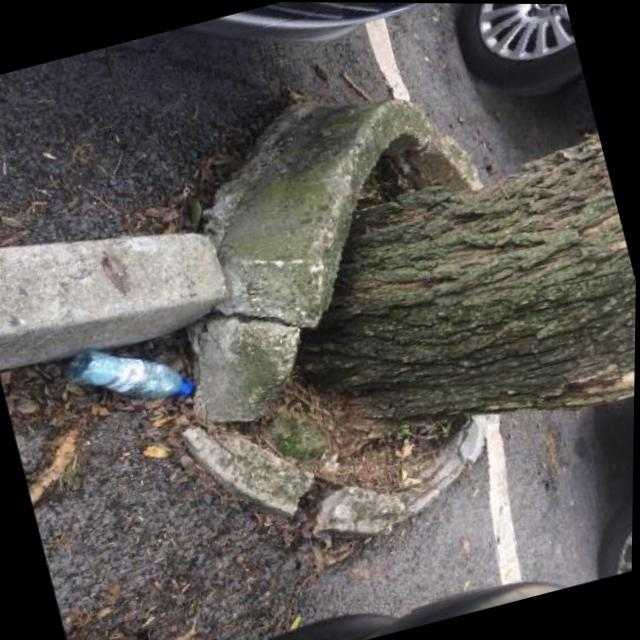plastic: (57, 325, 196, 426)
